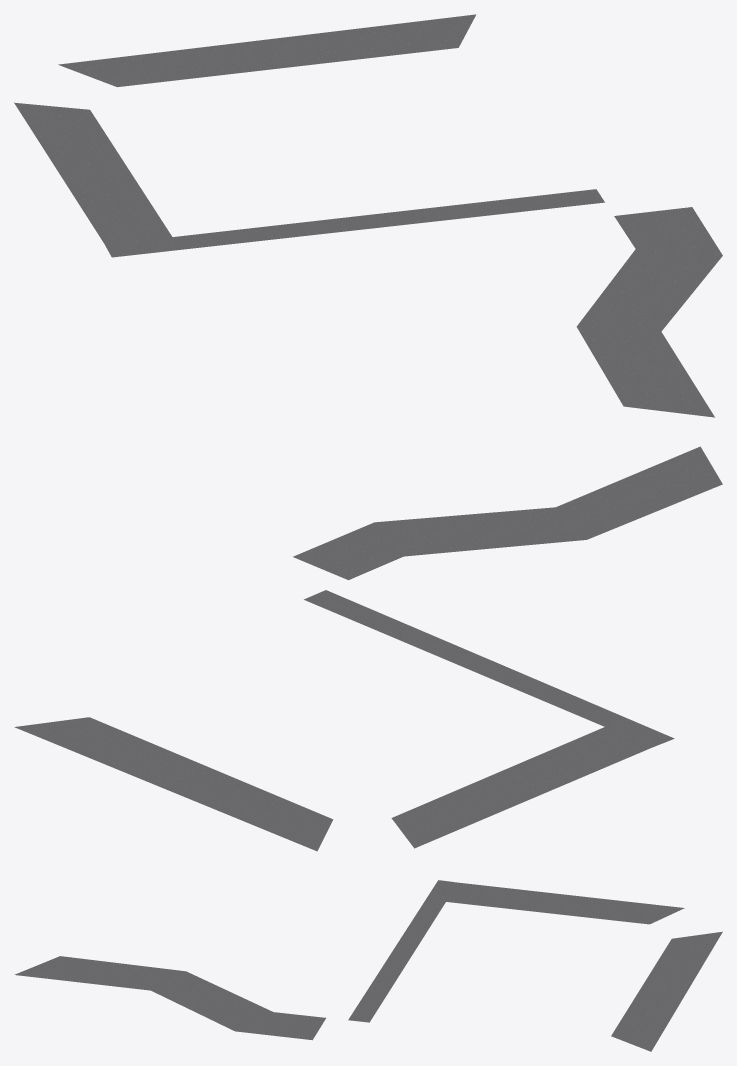
The model's file is kd_stage_136599_0_4_bounded.glb.
3 renders of one model, top to bottom at view 1: azimuth 30°, elevation 25°; view 2: azimuth 150°, elevation 25°; view 3: azimuth 270°, elevation 25°, orthographic. The views are drawn at different scales.
Parts seen in each view (by area): view 1: kd_stage_136599_0_4_bounded; view 2: kd_stage_136599_0_4_bounded; view 3: kd_stage_136599_0_4_bounded.
Boxes of the visible parts, x1=… form: kd_stage_136599_0_4_bounded: x1=14, y1=14, x2=722, y2=417; kd_stage_136599_0_4_bounded: x1=14, y1=446, x2=722, y2=851; kd_stage_136599_0_4_bounded: x1=14, y1=880, x2=722, y2=1051.
Size of the model in its own units: 48.23 by 7.63e-06 by 84.08.
1 material, 1 textured.
